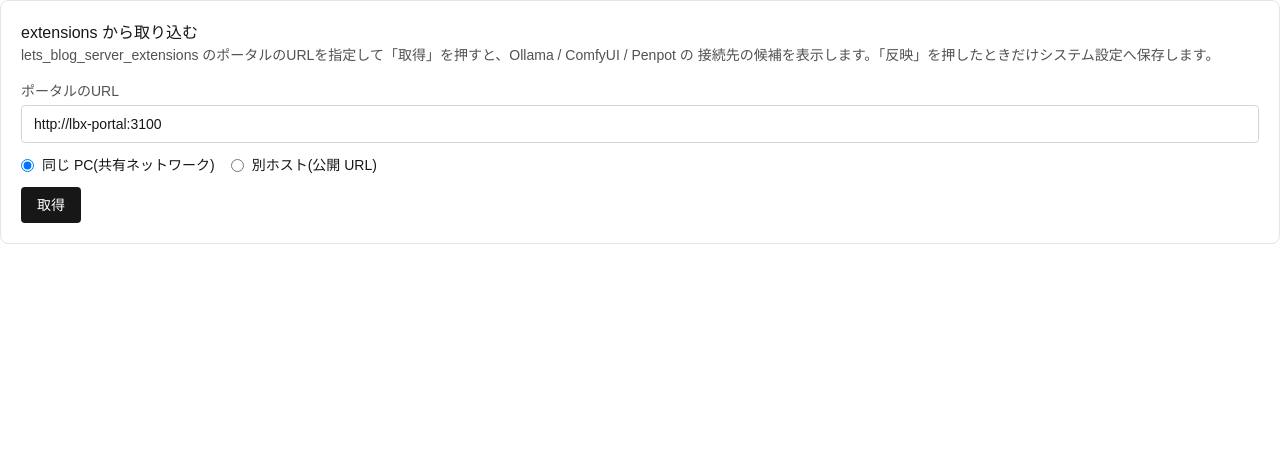
ExtensionsImportPanel(issue #1783) › 全て保存できたときは保存されなかった項目の一覧を出さない
Click the button "取得".
click(51, 205)  # box [21, 187, 81, 223]
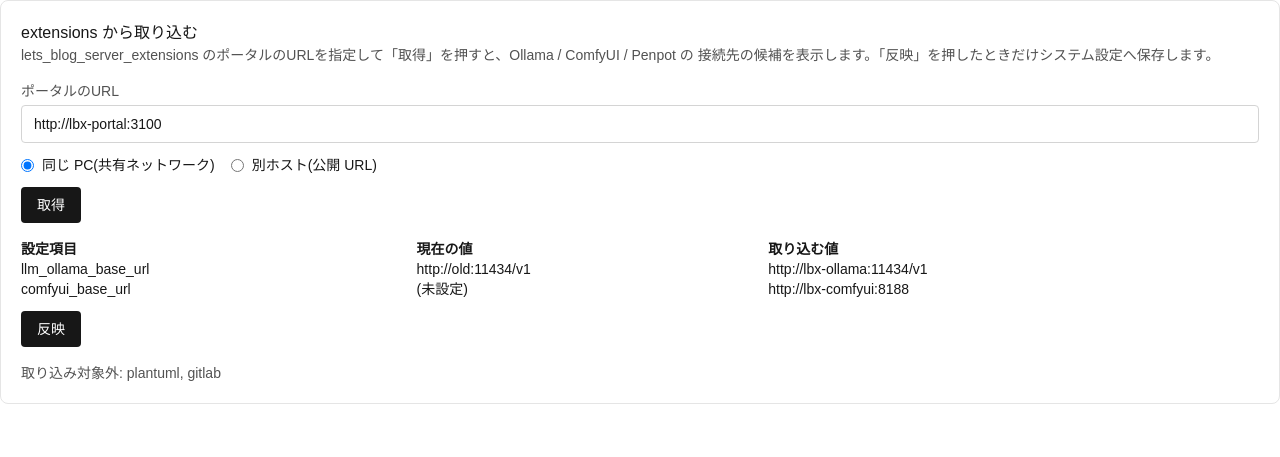
Click the button "反映".
click(51, 329)  # box [21, 311, 81, 347]
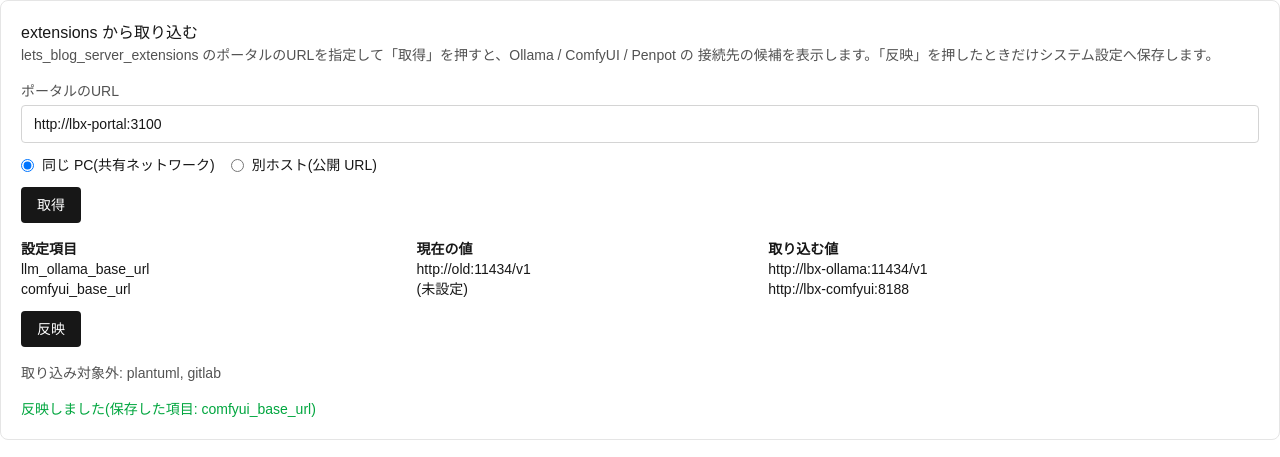
Now the message shows "反映しました", box [21, 401, 202, 417]
